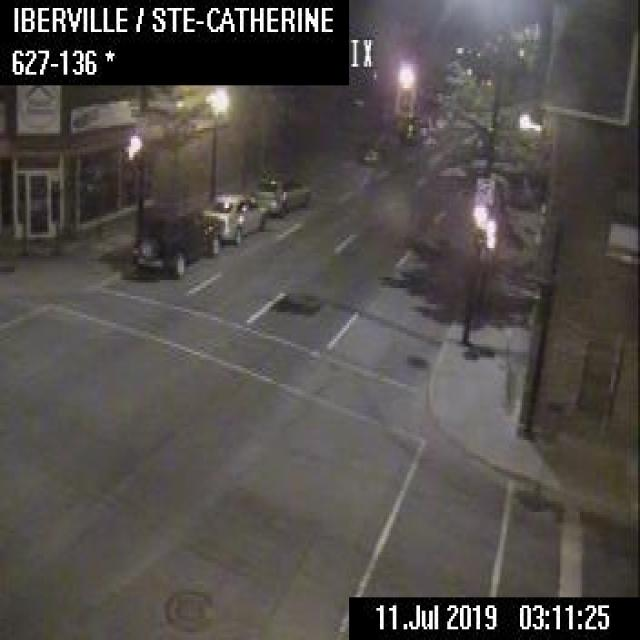vehicle: (129, 199, 221, 276), (202, 188, 267, 242), (253, 168, 311, 216)
